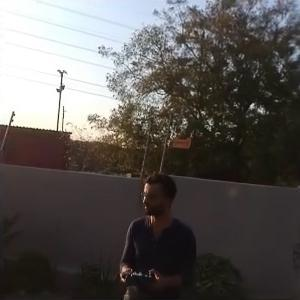follow: (109, 165, 198, 298)
